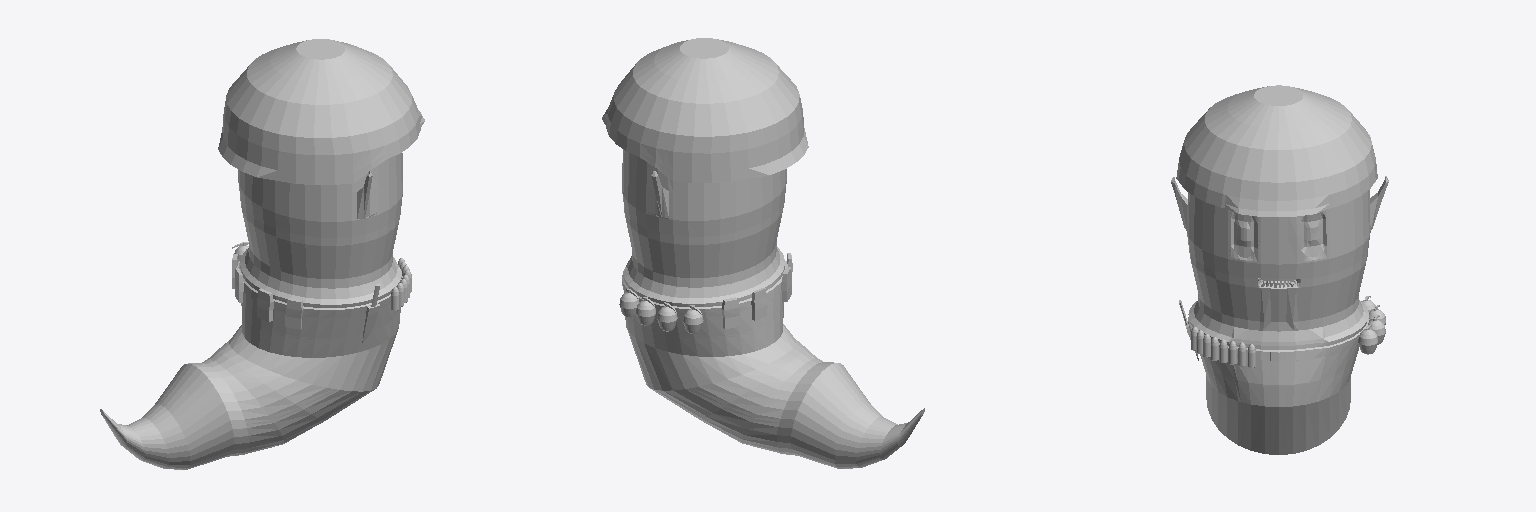
Rendered from caterpillar.obj.
The picture shows the model from 3 angles: view 1: azimuth 30°, elevation 25°; view 2: azimuth 150°, elevation 25°; view 3: azimuth 270°, elevation 25°; orthographic projection.
Parts seen in each view (by area): view 1: Cylinder; view 2: Cylinder; view 3: Cylinder.
Part boxes in pixels (x1,y1,x2,y2): Cylinder: (100,39,424,469); Cylinder: (602,38,924,468); Cylinder: (1171,85,1388,454).
Size of the model in its own units: 3.28 by 3.87 by 2.